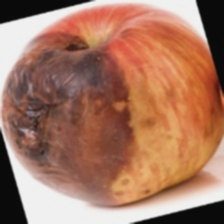apple: (23, 25, 192, 197)
